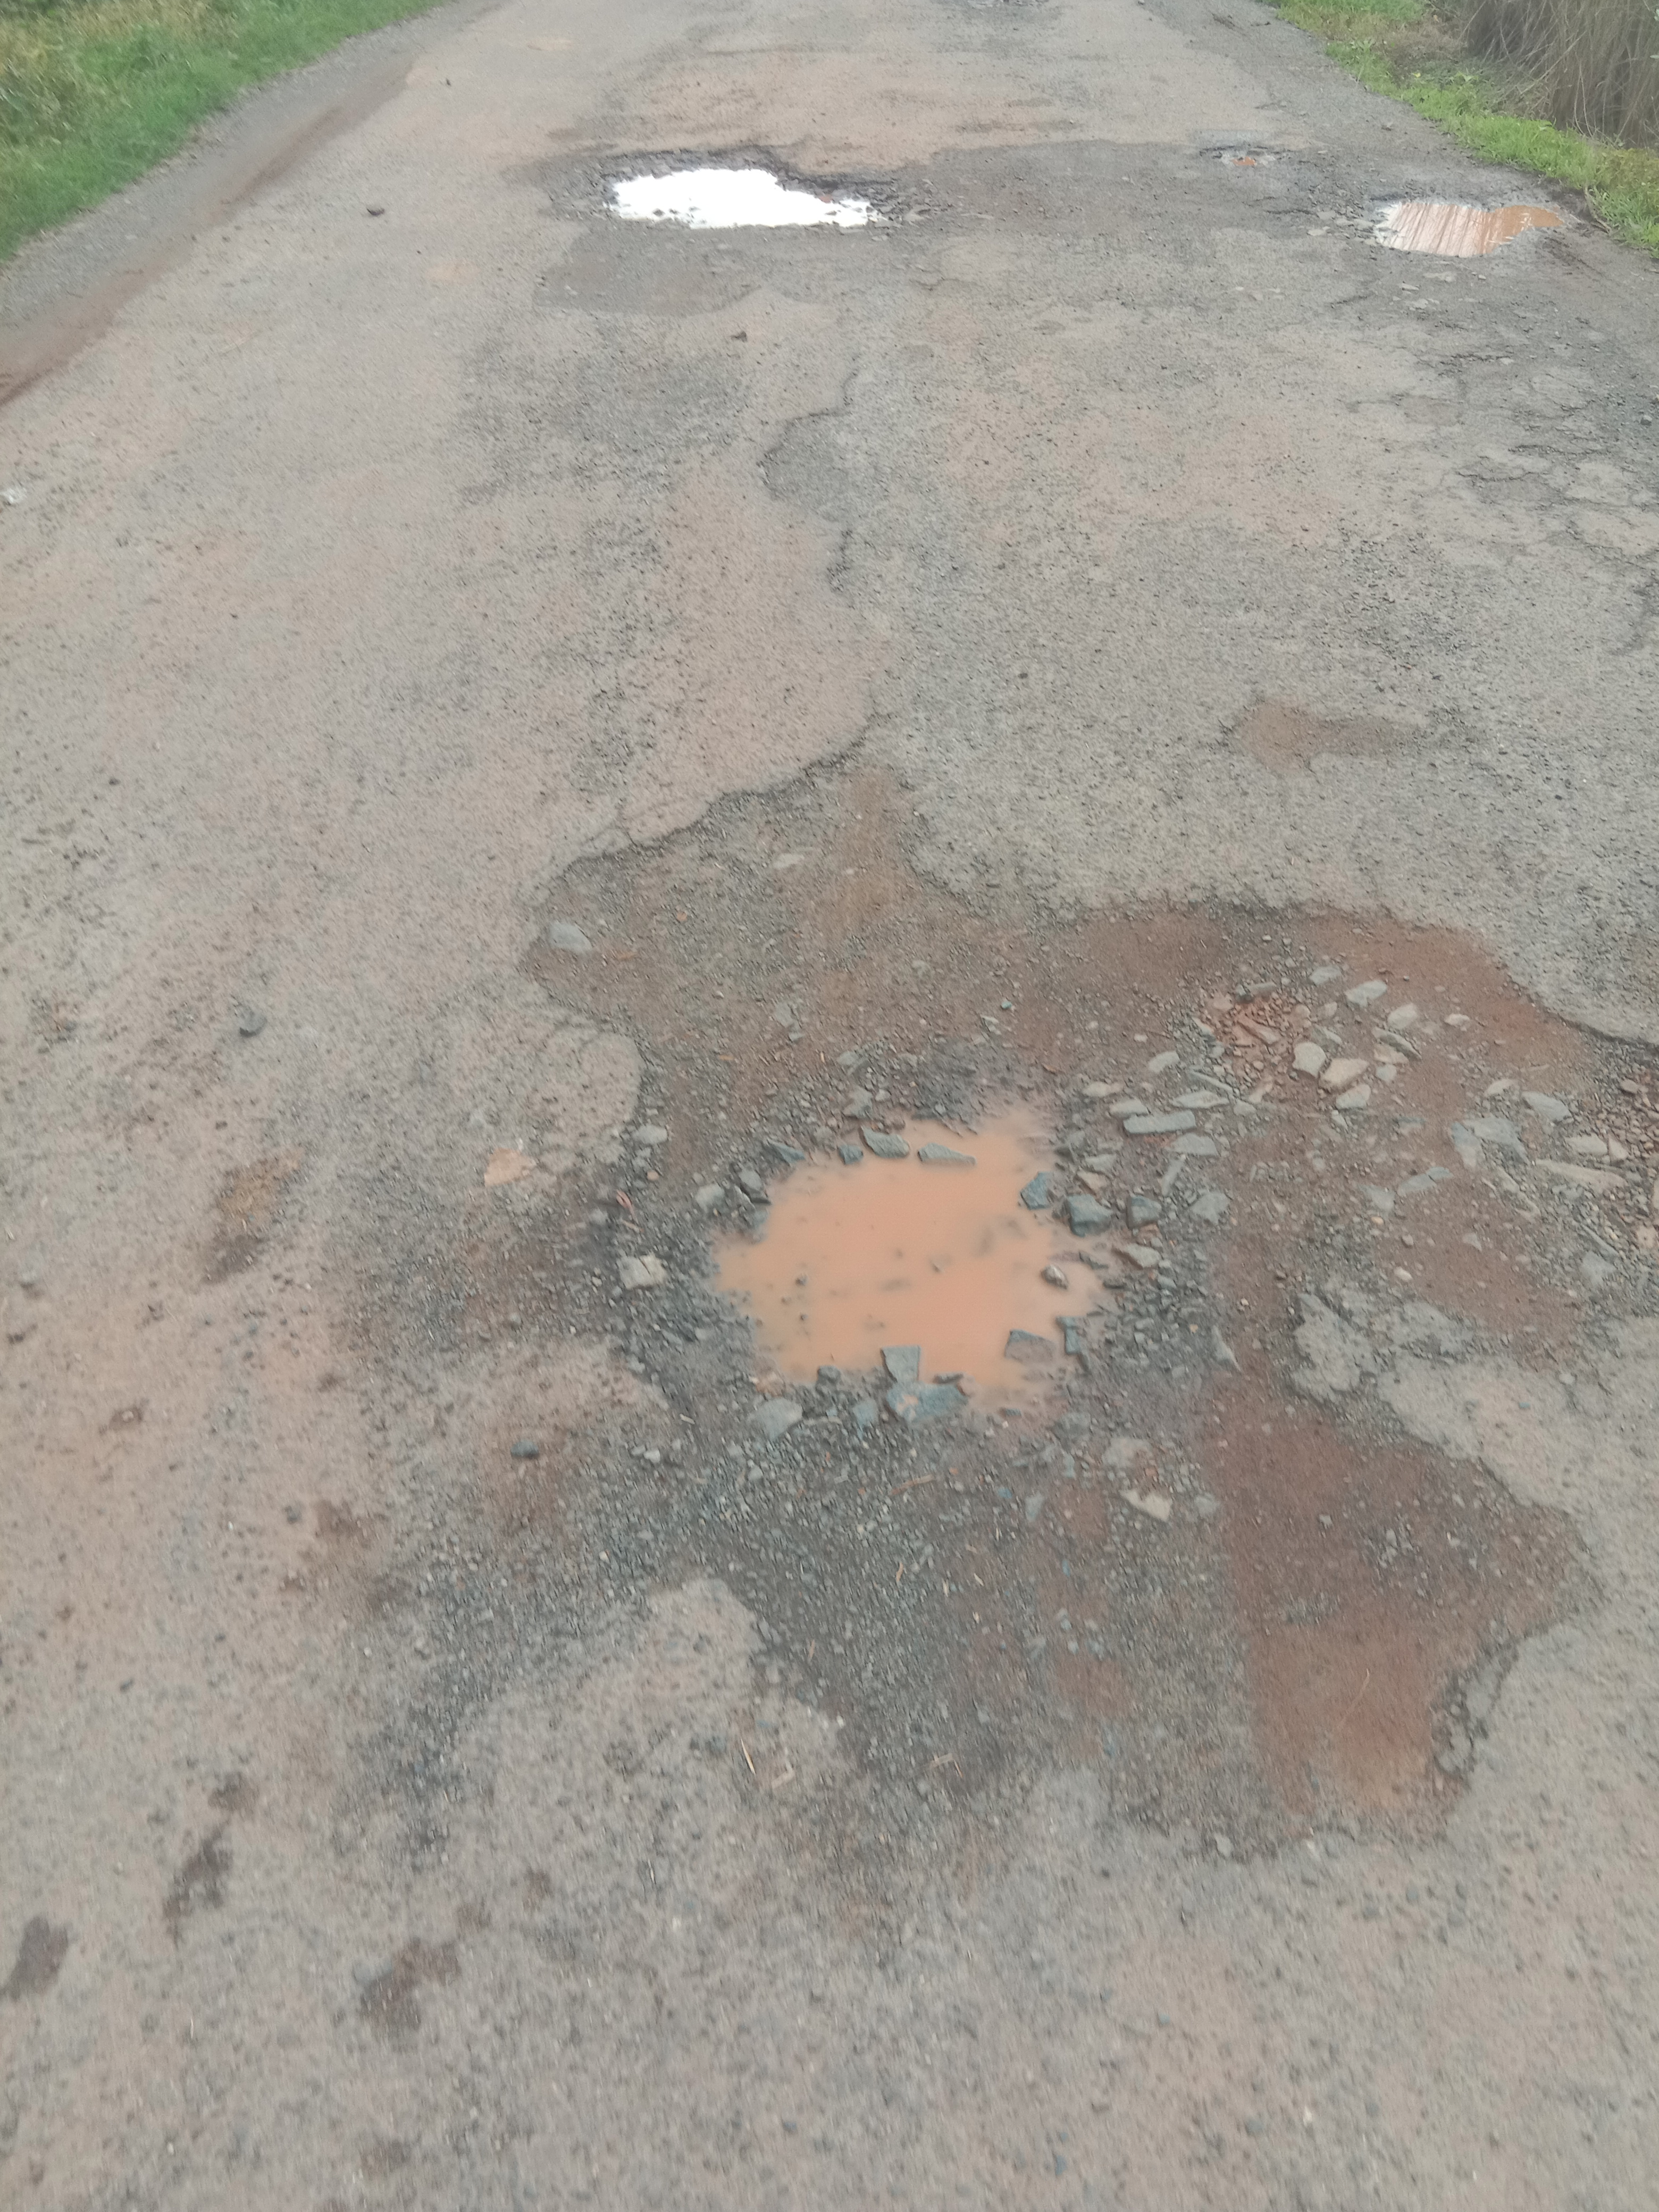potholes: (544, 782, 1659, 1775), (1208, 136, 1636, 289), (575, 132, 934, 254)
